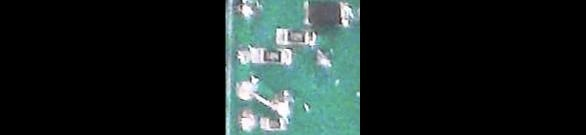chip-resistor: (248, 45, 292, 65), (275, 27, 316, 45), (256, 113, 288, 132)
diode: (301, 0, 353, 27)
